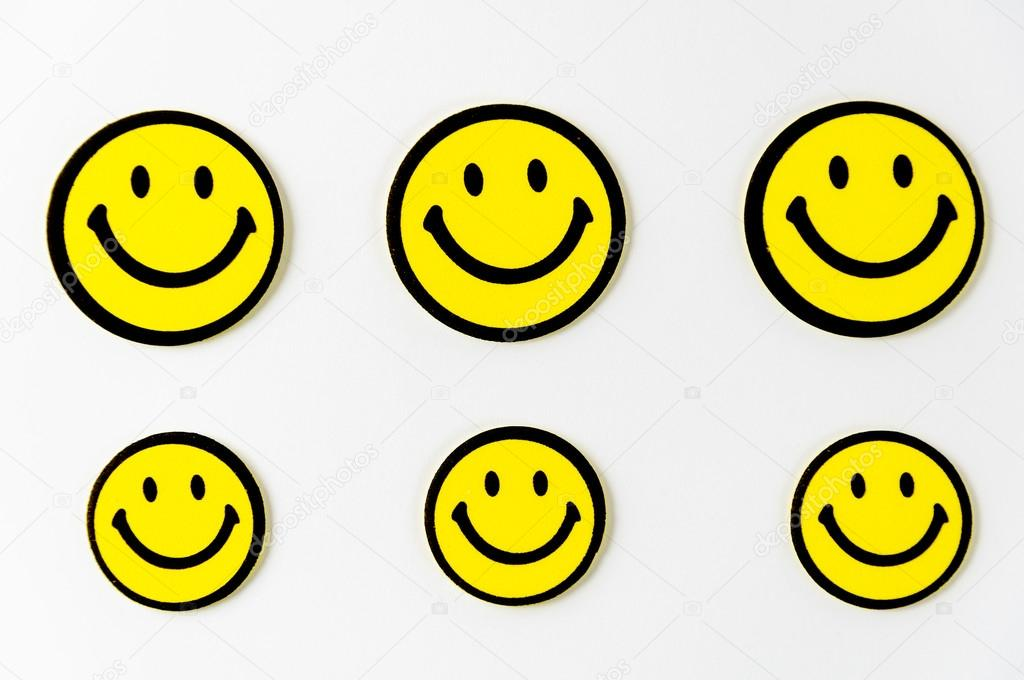feliz: (366, 108, 648, 352), (38, 112, 310, 362), (741, 94, 1001, 349), (403, 435, 617, 608), (783, 153, 960, 287), (77, 166, 266, 289), (439, 159, 587, 287), (820, 460, 950, 570), (467, 468, 589, 569), (120, 478, 244, 566)
